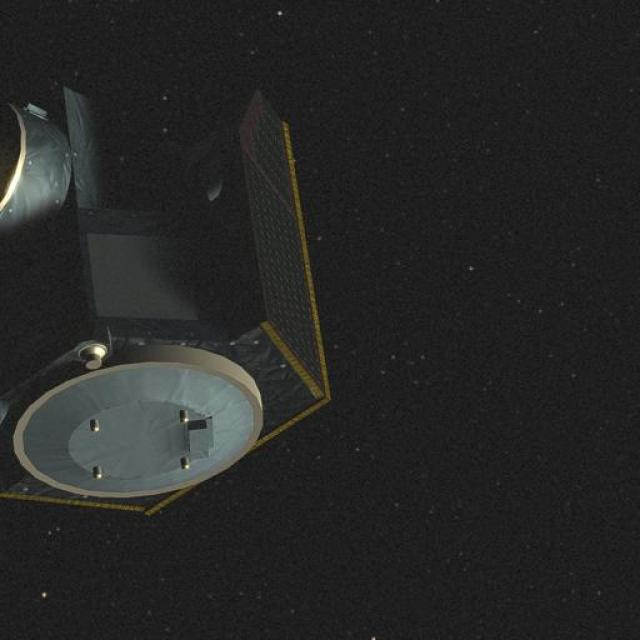cheops: (0, 82, 352, 537)
